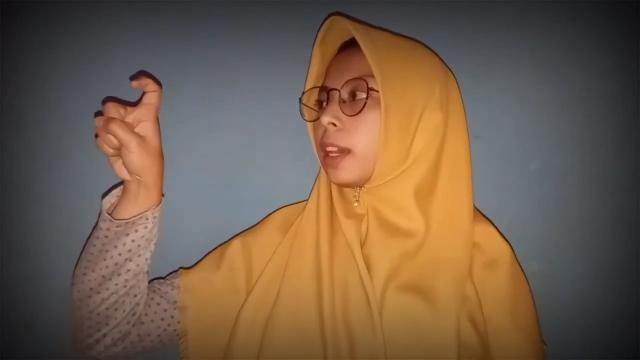X: (92, 66, 178, 188)
